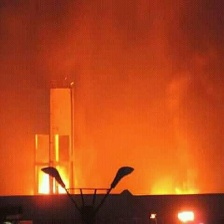fire: (33, 167, 75, 192), (175, 209, 201, 222)
smoke: (44, 9, 220, 188)
